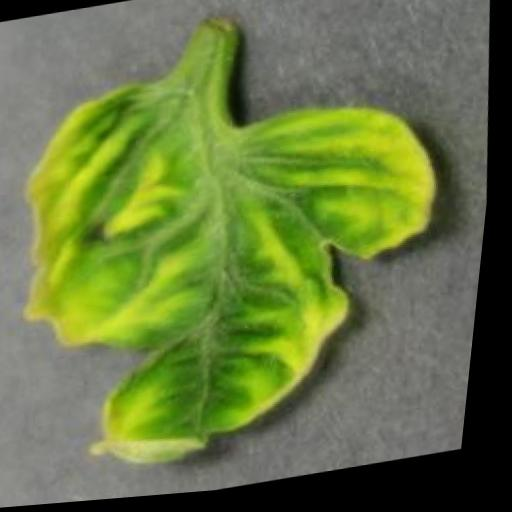Yellow Leaf Curl Virus: (0, 33, 476, 493)
